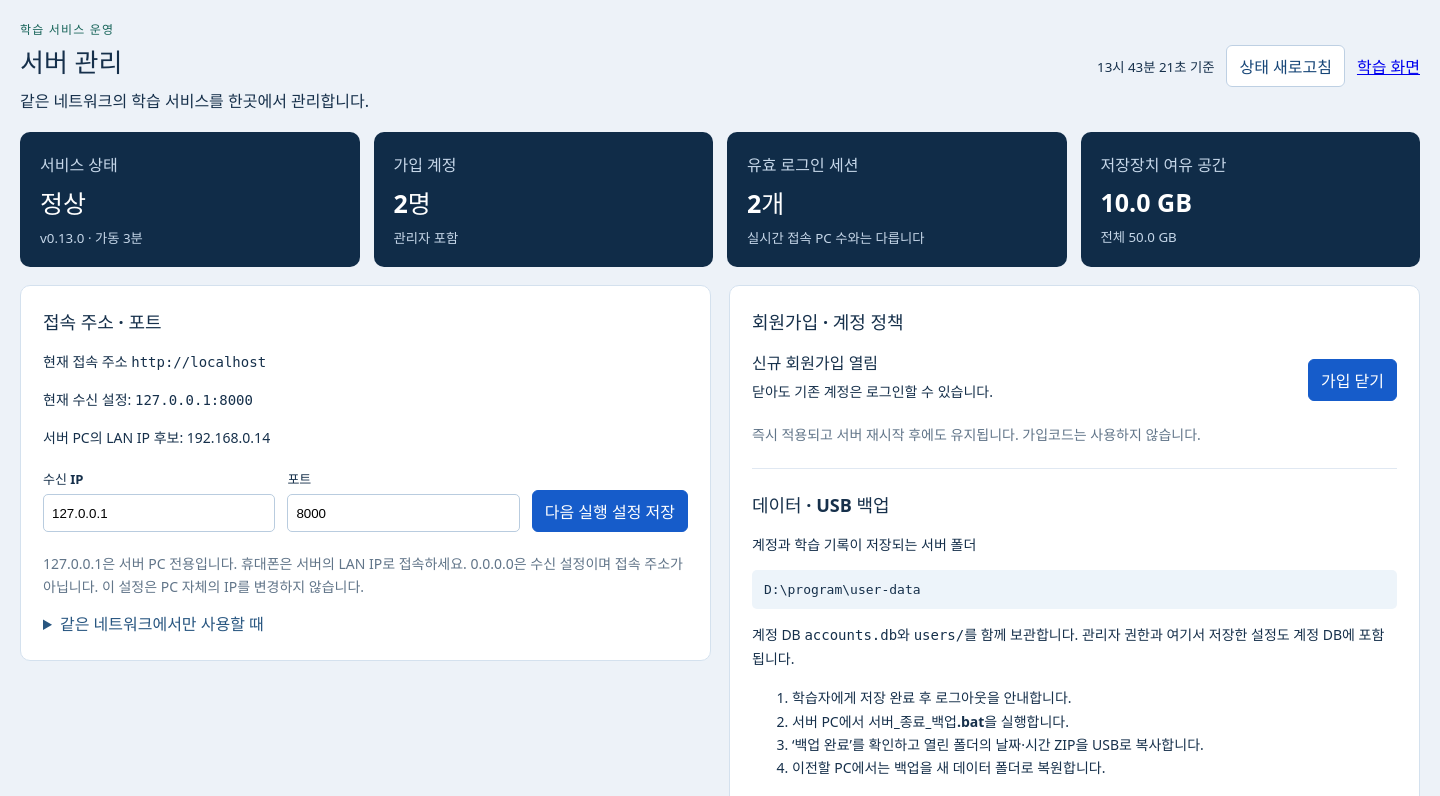
Test: shows status and saves registration with CSRF and current identity headers
The width and height of the screenshot is (1440, 796).
Expected: the text "2명" is shown, [394,186,431,220]
Expected: the text "D:\\program\\user-data" is shown, [752,570,1397,609]
Click the button "가입 닫기" at (1352, 380), box [1308,358,1397,400]
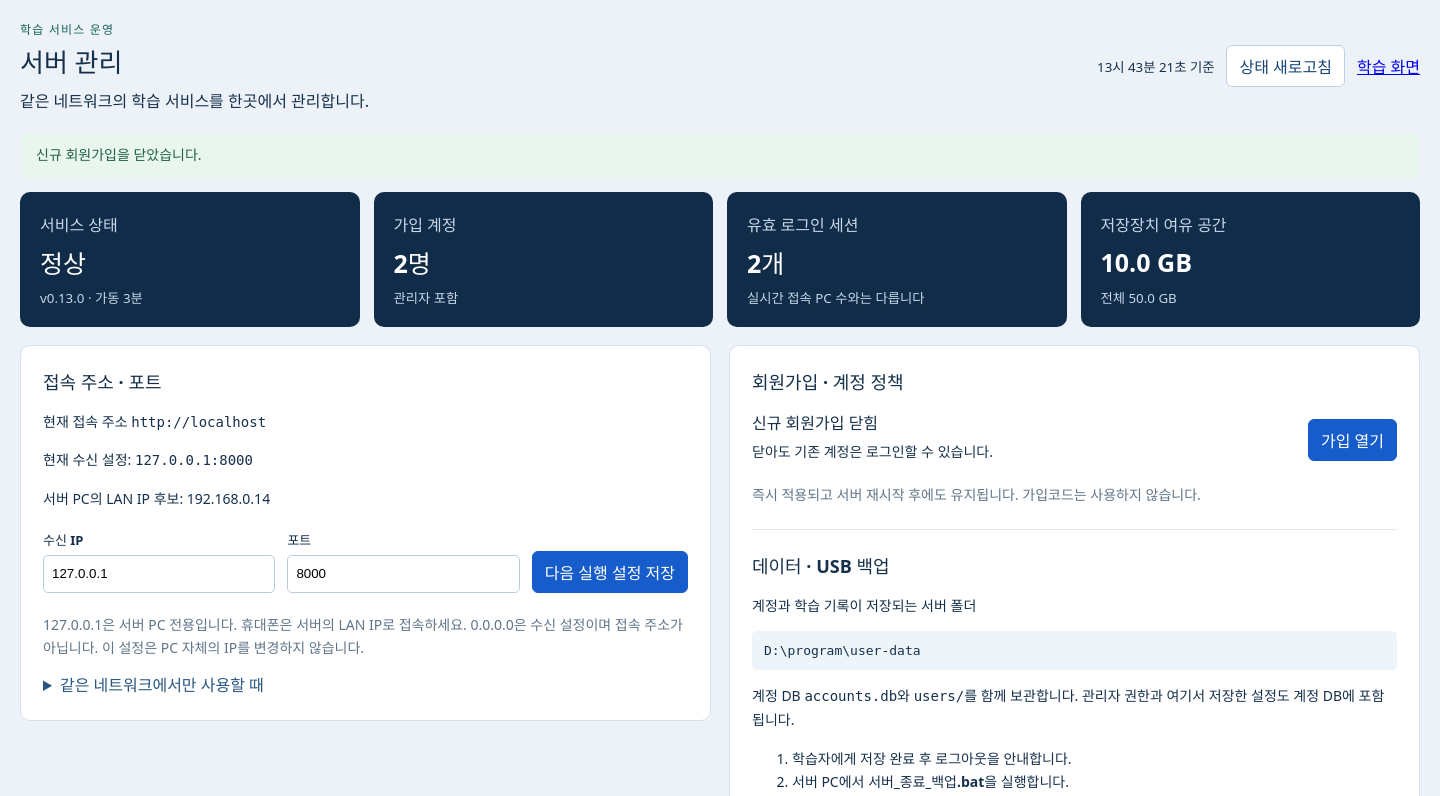
Result: the text "신규 회원가입 닫힘" is shown at [752,412,878,434]
